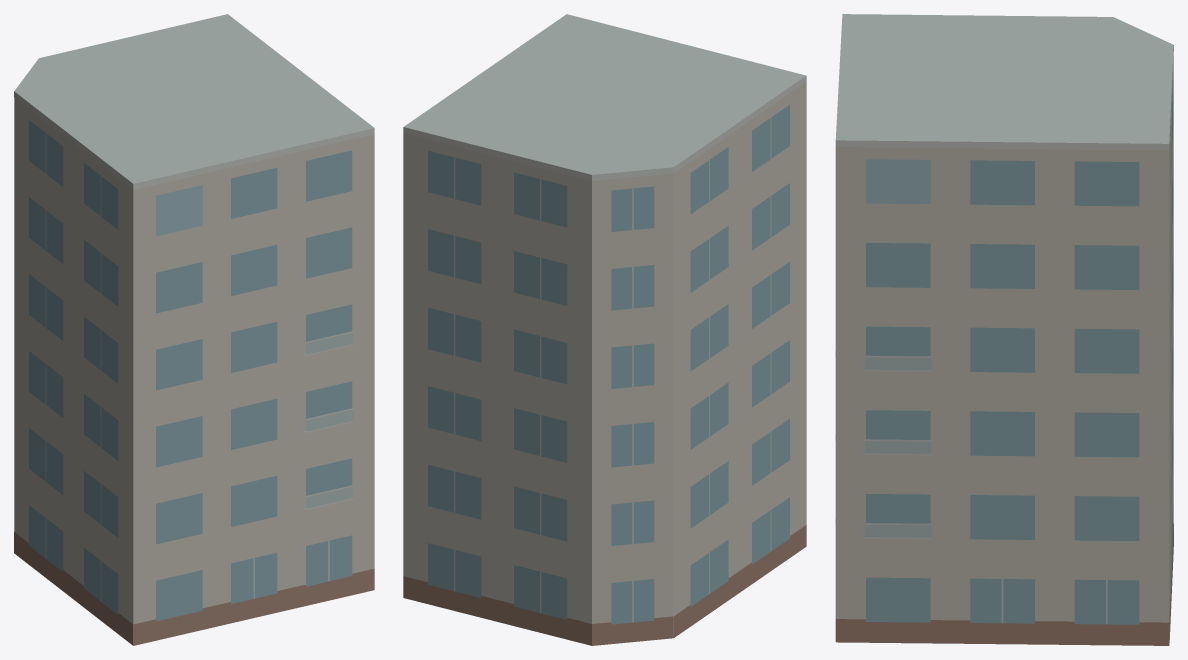
Rendered from survey-upis-33035796.glb.
The picture shows the model from 3 angles, left to right: view 1: azimuth 30°, elevation 25°; view 2: azimuth 150°, elevation 25°; view 3: azimuth 270°, elevation 25°; orthographic projection. The views are drawn at different scales.
Parts seen in each view (by area): view 1: survey-upis-33035796.tmp; view 2: survey-upis-33035796.tmp; view 3: survey-upis-33035796.tmp.
Part boxes in pixels (x1,y1,x2,y2): survey-upis-33035796.tmp: (14,14,374,645); survey-upis-33035796.tmp: (403,14,806,645); survey-upis-33035796.tmp: (835,14,1173,645).
Bounding box in the file's own units: 10.38 × 18.7 × 11.43.
